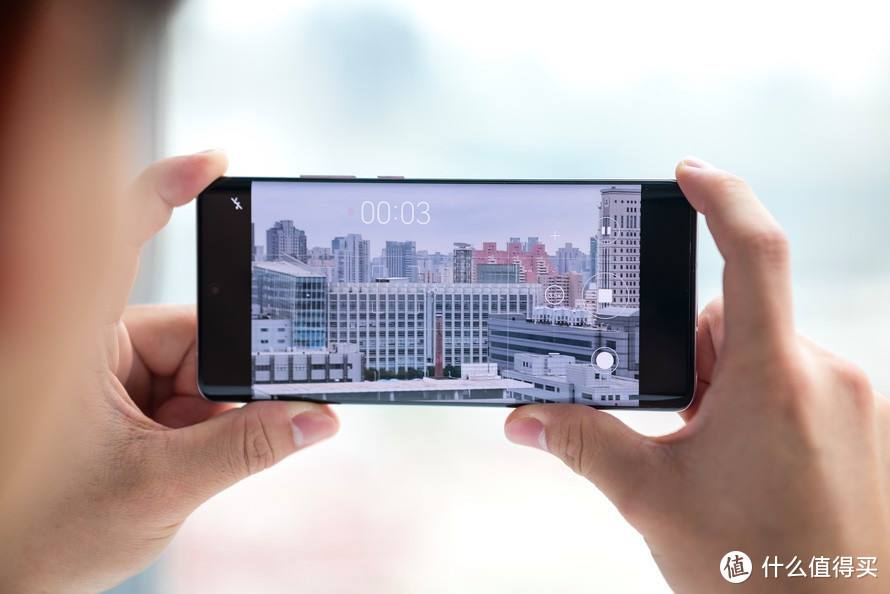taking photos: (34, 140, 885, 577)
